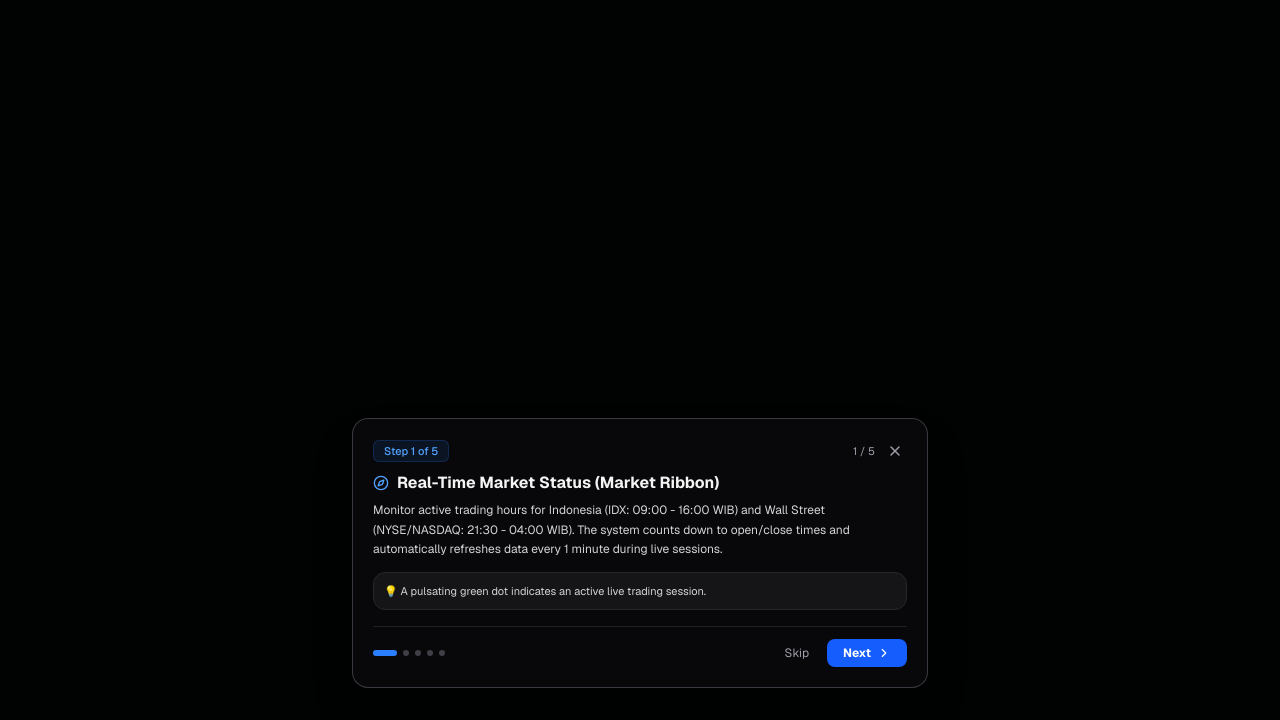
SpotlightTour component › navigates through steps when clicking Next and Back
# Go to step 2
What coordinates should you click on to do the following:
click the button "Next"
I would click on:
 (867, 653)
Its box is [827,639,907,667].
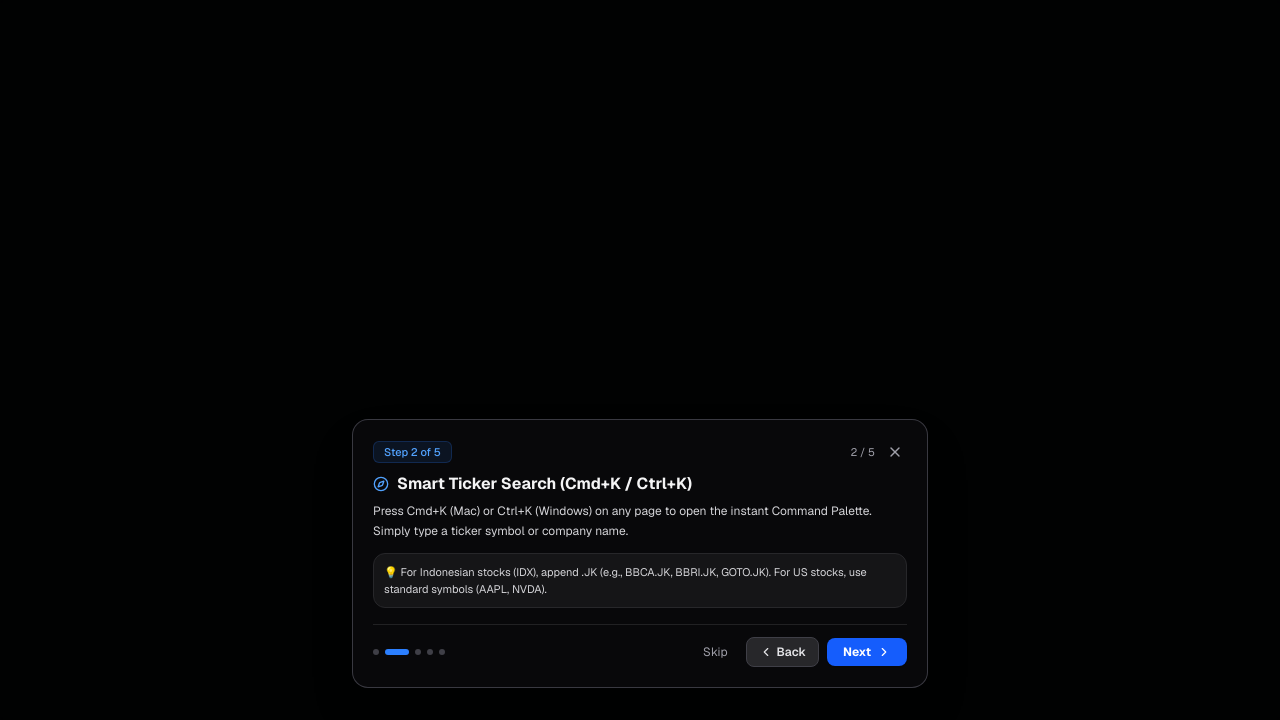
Now the text "Step 2 of 5" is shown, box [373,441,452,463]
Now the text "Smart Ticker Search (Cmd+K / Ctrl+K)" is shown, box [397,472,692,496]
# Go back to step 1
What coordinates should you click on to do the following:
click the button "Back"
I would click on:
 (782, 652)
Its box is [746,637,819,667].
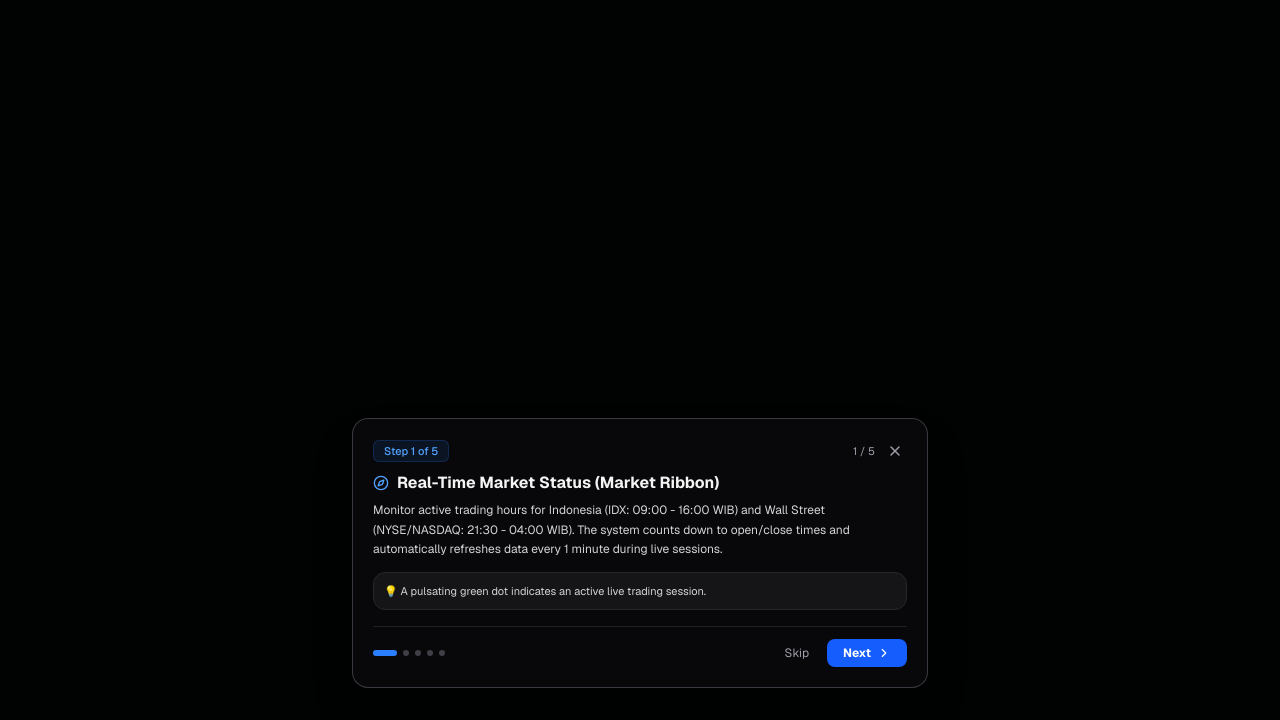
Now the text "Step 1 of 5" is shown, box [373,440,449,462]
